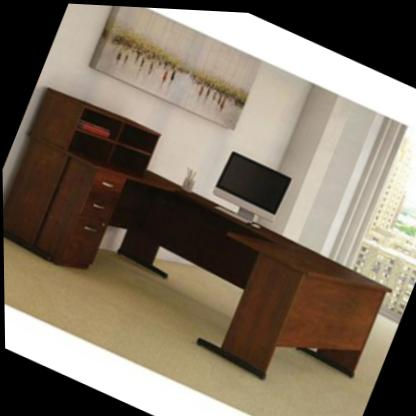Cabinet: (2, 134, 126, 280)
